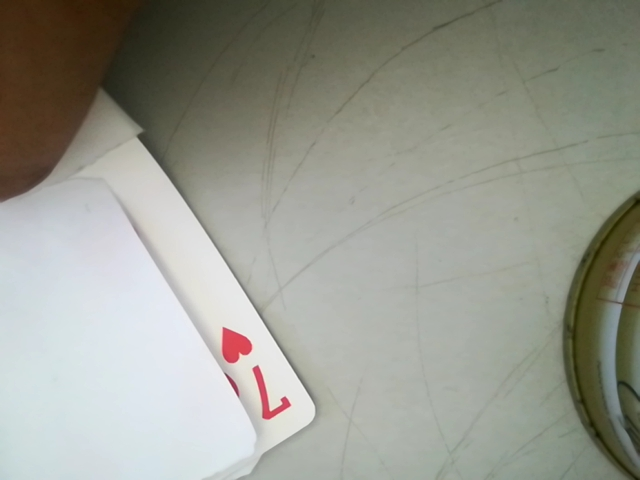hx 7: (201, 312, 293, 436)
